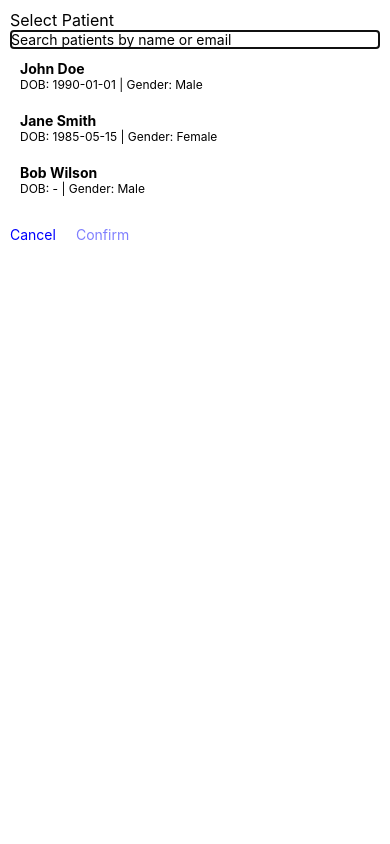
Test: PatientSelectModal › Search functionality › should filter patients by name
Expected: the text "John Doe" is shown, [20, 60, 85, 77]
Type "john" into the field with placeholder "Search patients by name or email".
click(195, 40); type("john")  # box [10, 30, 380, 49]
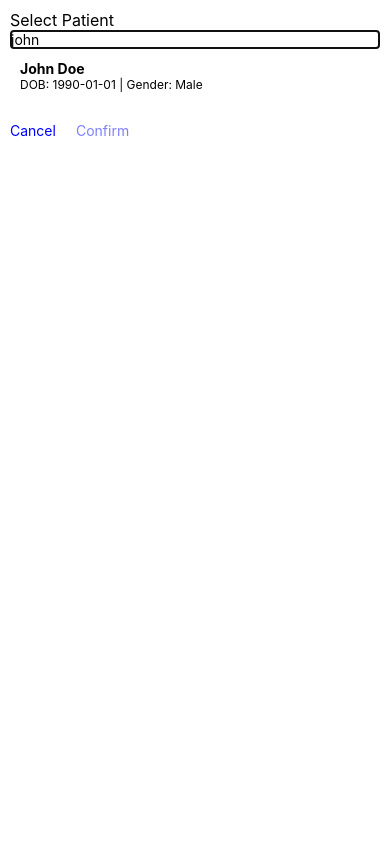
Expected: the text "John Doe" is shown, [20, 60, 85, 77]
Result: the text "Jane Smith" is gone
Result: the text "Bob Wilson" is gone
